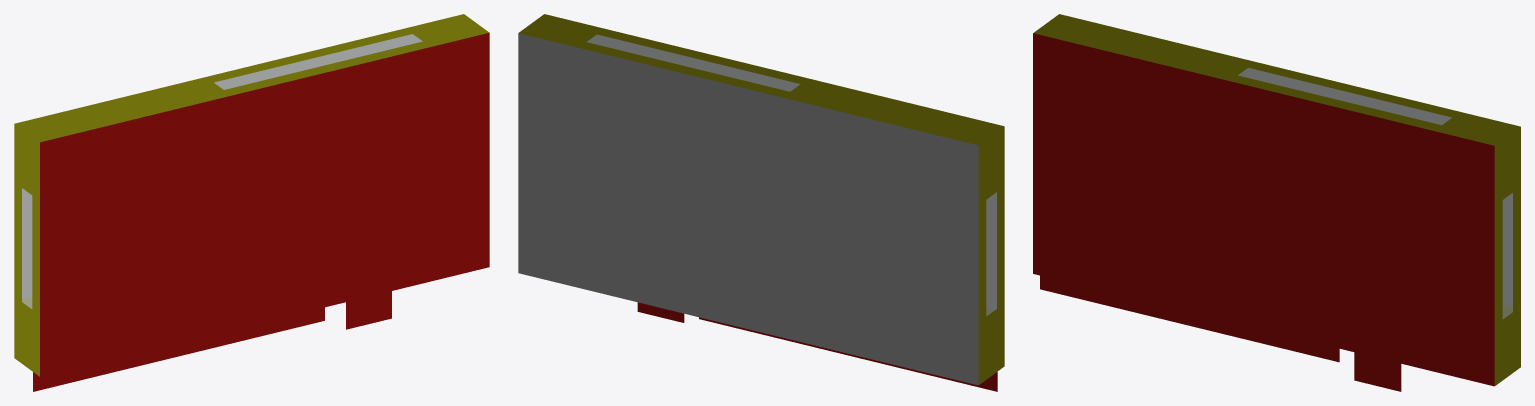
Rendered from idf.obj.
3 views of the same model, side by side, from view 1: azimuth 30°, elevation 25°; view 2: azimuth 150°, elevation 25°; view 3: azimuth 330°, elevation 25° (orthographic). The views are drawn at different scales.
Bounding box in the file's own units: 30.5 × 17.2 × 3.
